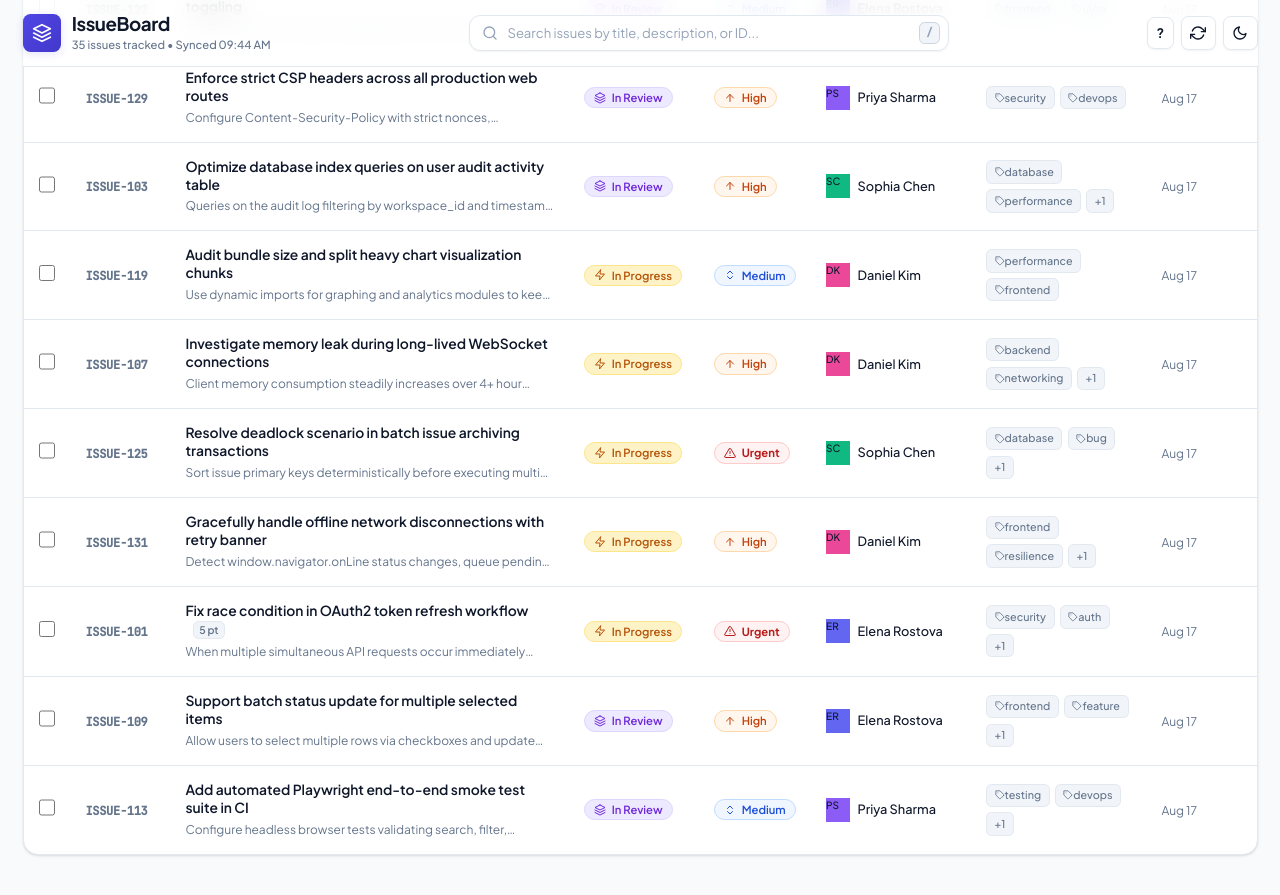
Test: Selection and Bulk Actions › selects individual issues and reveals bulk actions toolbar
This screenshot has width=1280, height=895.
(page scrolled)
Expected: the text "Fix race condition in OAuth2 token refresh workflow" is shown, [185,602,528,619]
Click the checkbox named "Select issue ISSUE-101": x=47, y=629 [38,620,55,637]
(page scrolled)
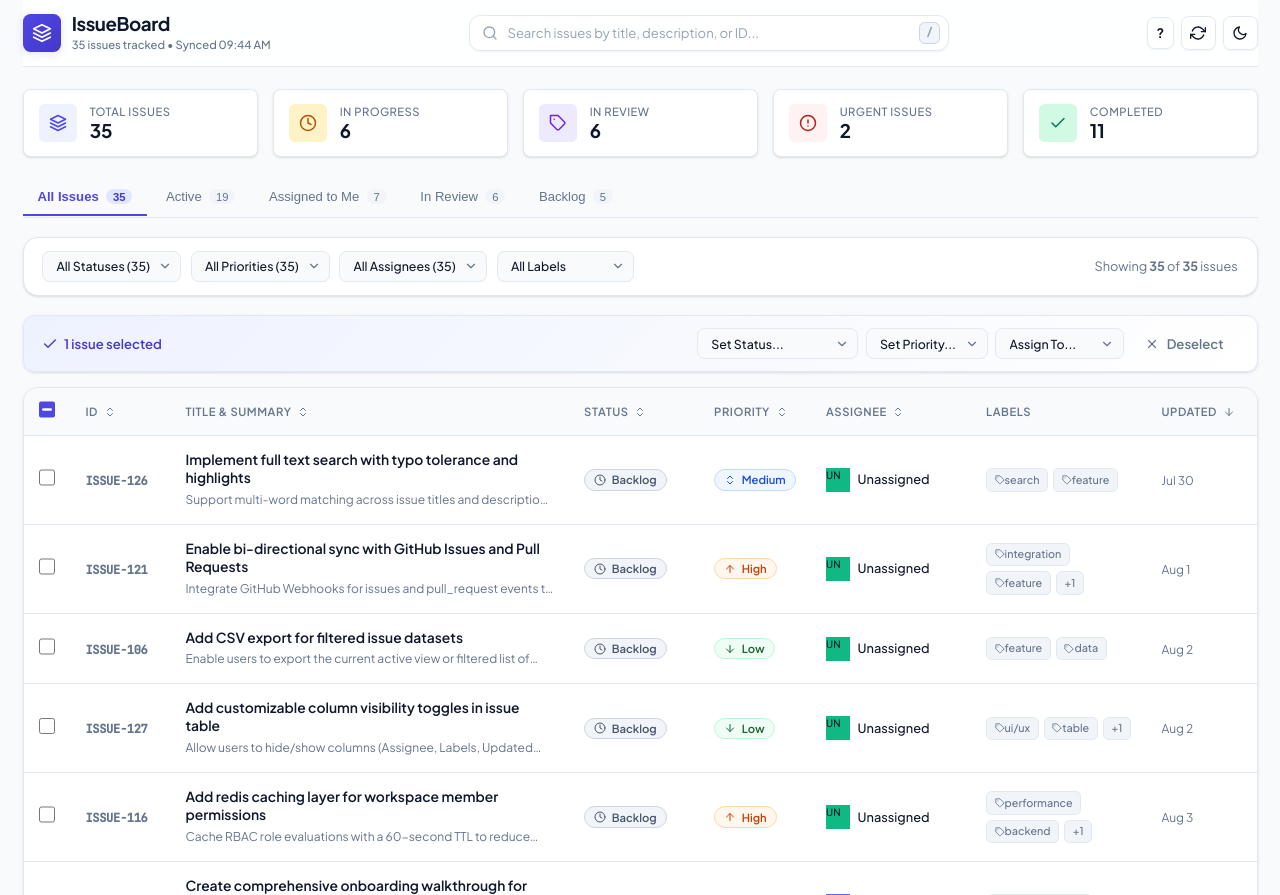
Now the element named "Bulk actions for selected issues" is shown, box [22,315,1258,372]
Now the text "1 issue selected" is shown, box [64,334,162,353]
